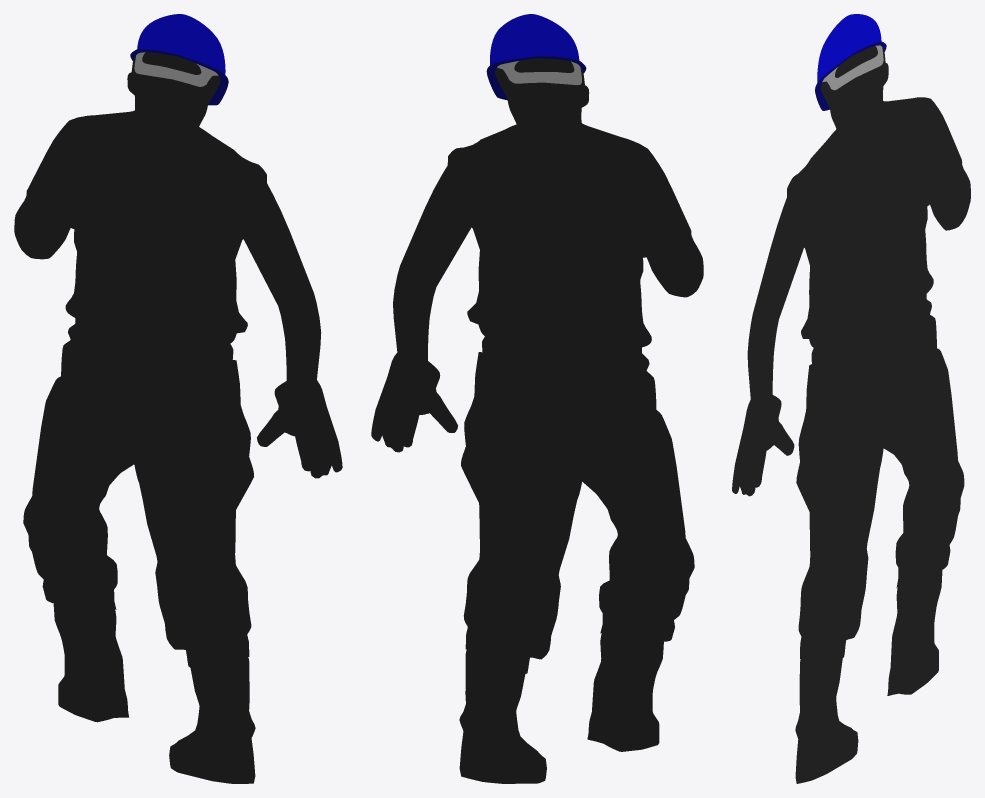
The model's file is Worker.dae.
3 views of the same model, side by side, from view 1: azimuth 30°, elevation 25°; view 2: azimuth 210°, elevation 25°; view 3: azimuth 270°, elevation 25° (orthographic). The views are drawn at different scales.
Visible parts, largest first — view 1: BS_Labour_1 (×5); view 2: BS_Labour_1 (×5); view 3: BS_Labour_1 (×5).
Part boxes in pixels (x1=…): BS_Labour_1 (×5): x1=14, y1=14, x2=342, y2=783; BS_Labour_1 (×5): x1=371, y1=14, x2=703, y2=783; BS_Labour_1 (×5): x1=732, y1=14, x2=970, y2=783.
Size of the model in its own units: 17.66 by 18.03 by 62.42.
